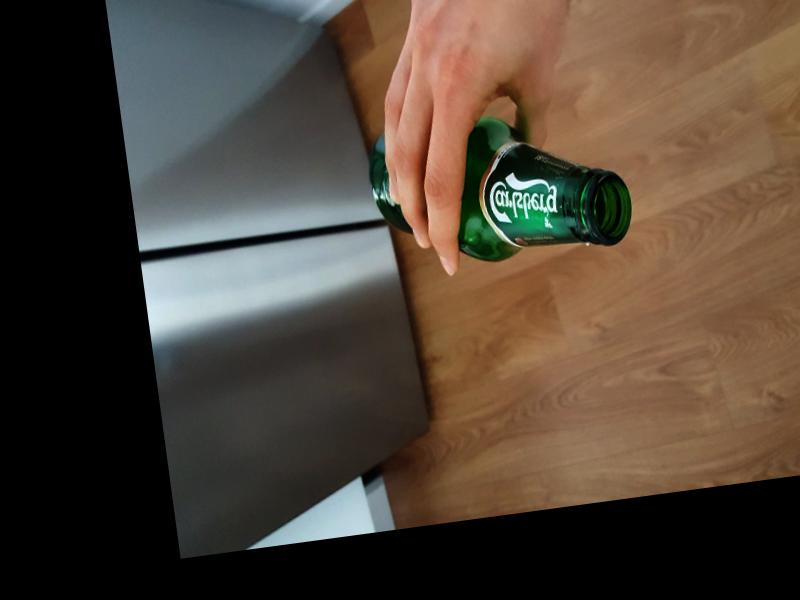Beer: (364, 100, 636, 275)
